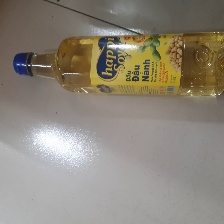Happy Soya: (11, 30, 224, 98)
